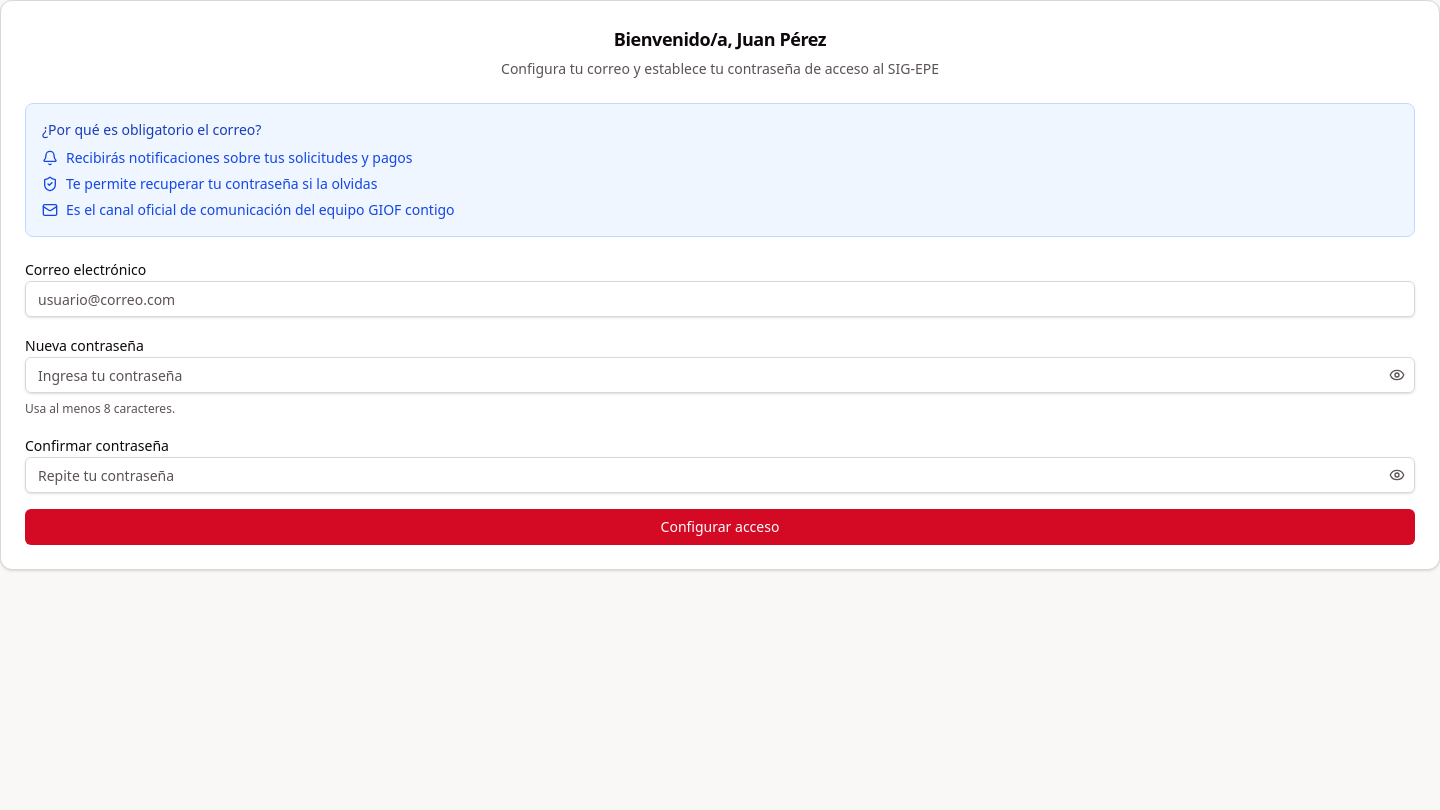
Test: OnboardingForm › ✅ Valida formato de email
In the field with placeholder "usuario@correo.com": (720, 299) [25,281,1415,317], type "not-an-email"
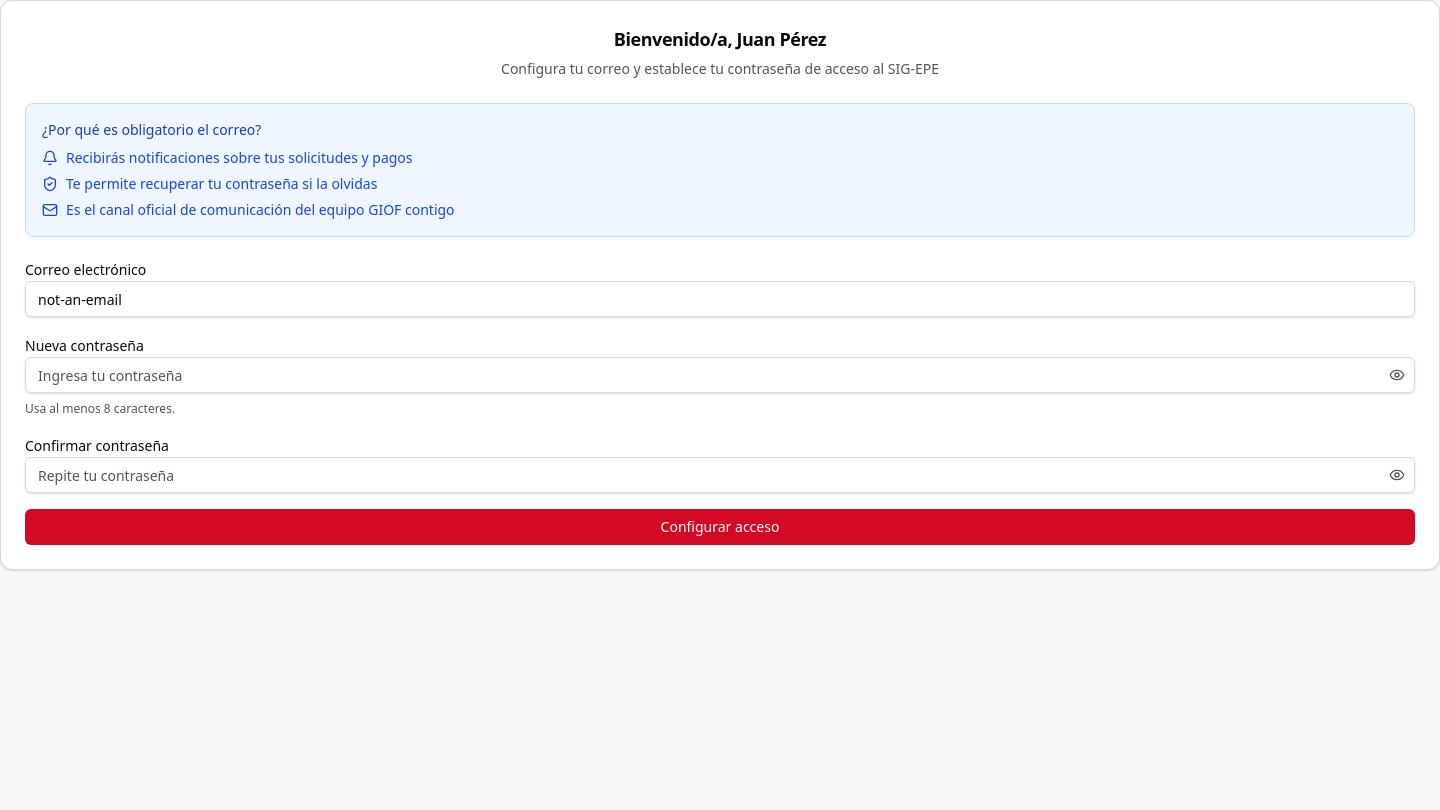
In the password field with placeholder "Ingresa tu contraseña": (720, 375) [25,357,1415,393], type "Password123"
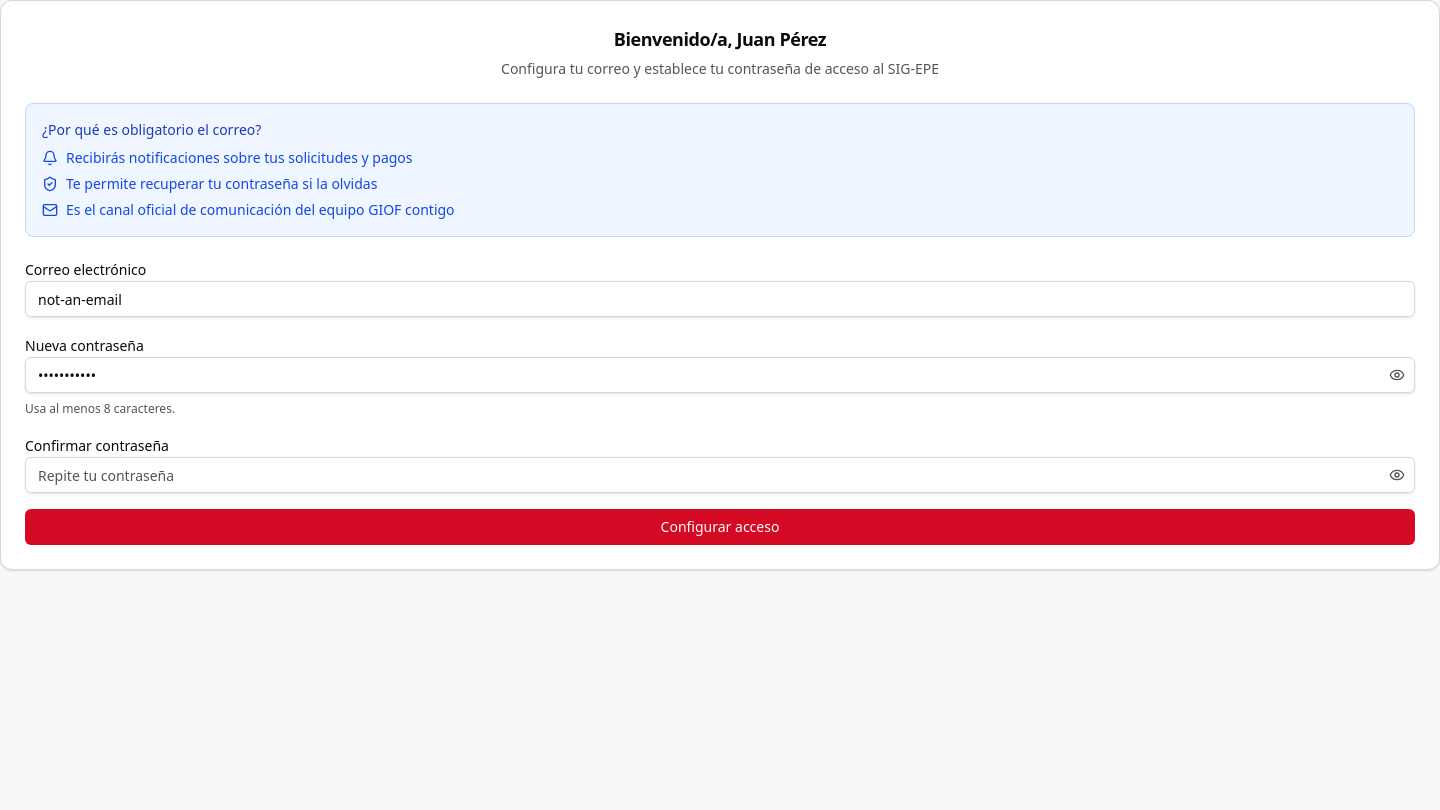
In the password field with placeholder "Repite tu contraseña": (720, 475) [25,457,1415,493], type "Password123"
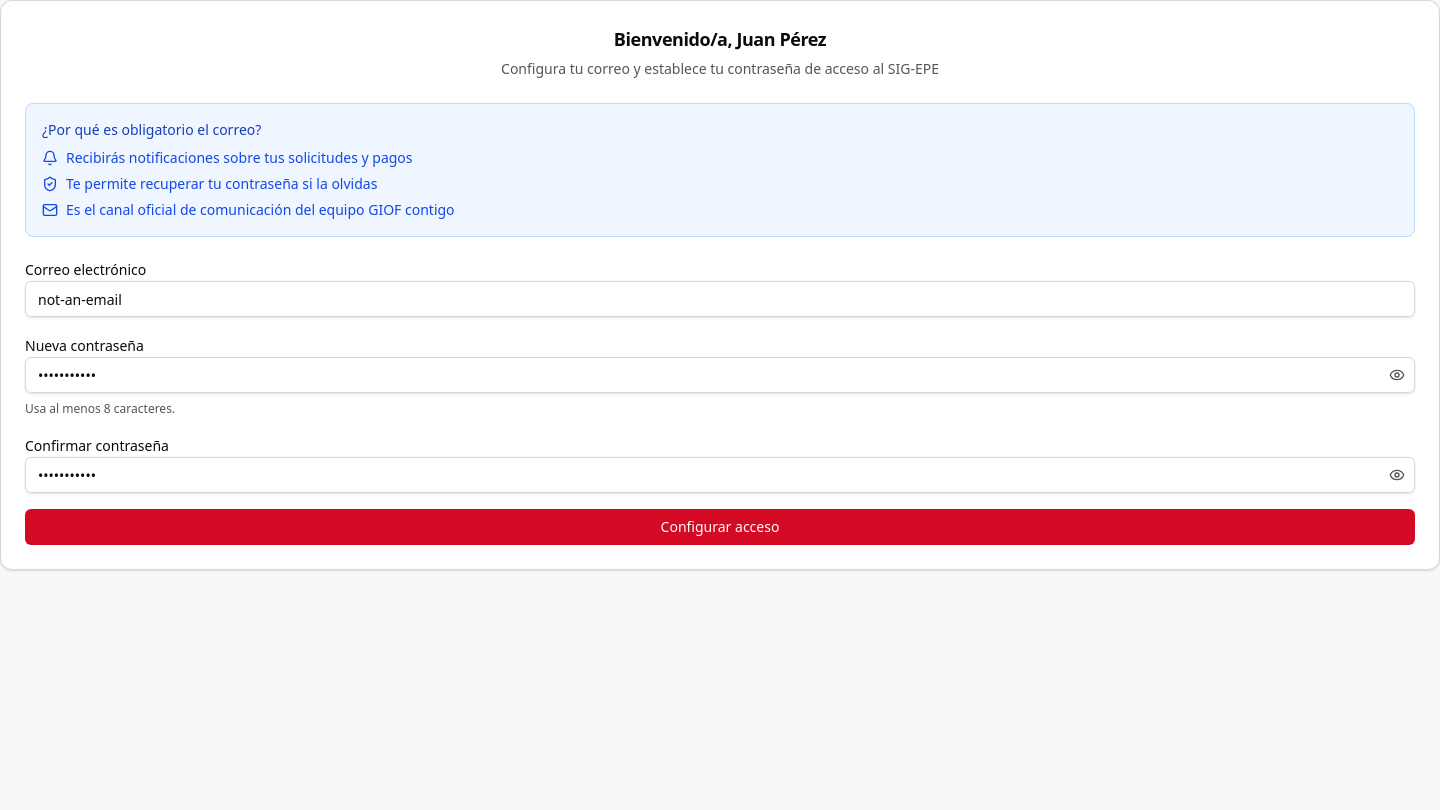
Submit the form named "configurar acceso", box [25,257,1415,545]
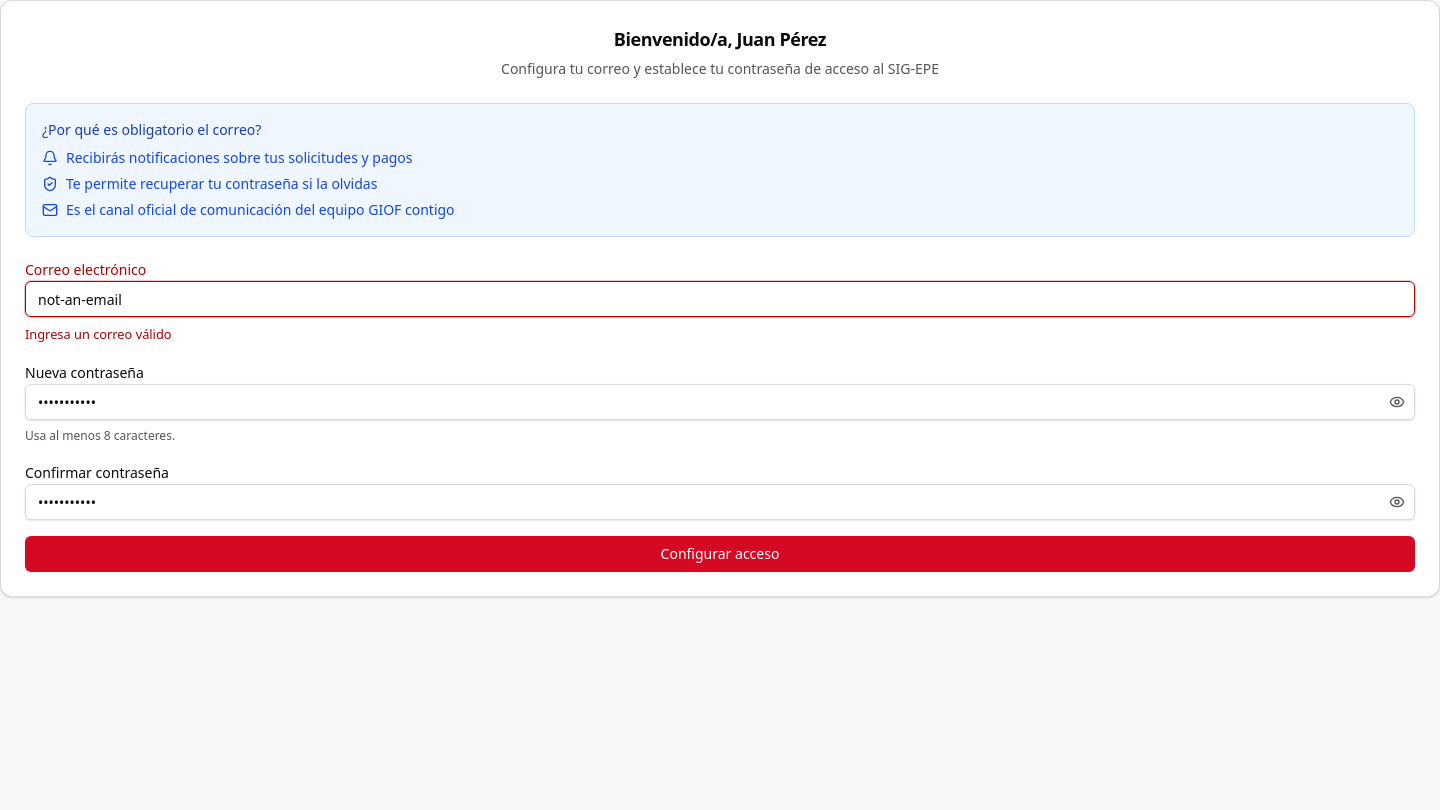
Check: the text "Ingresa un correo válido" is shown, box [25,325,172,343]
